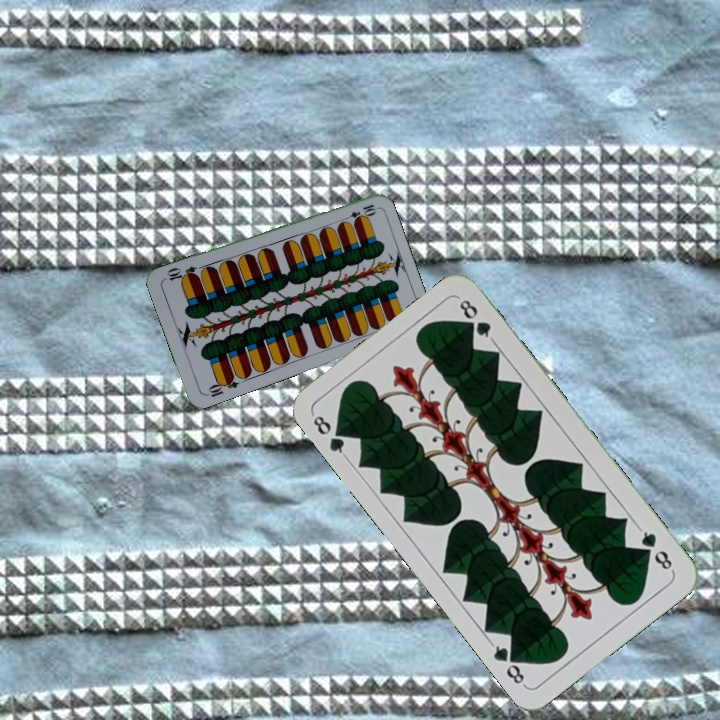E10: (202, 372, 241, 400), (339, 200, 379, 224)
G8: (308, 410, 351, 461), (634, 524, 676, 575)
